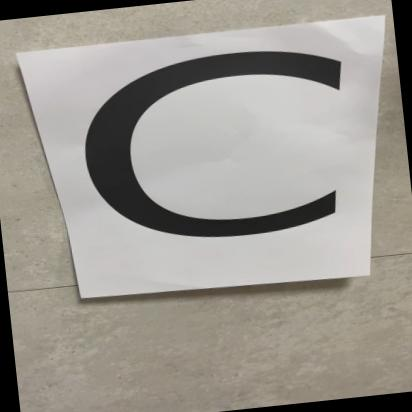seat: (35, 29, 371, 306)
